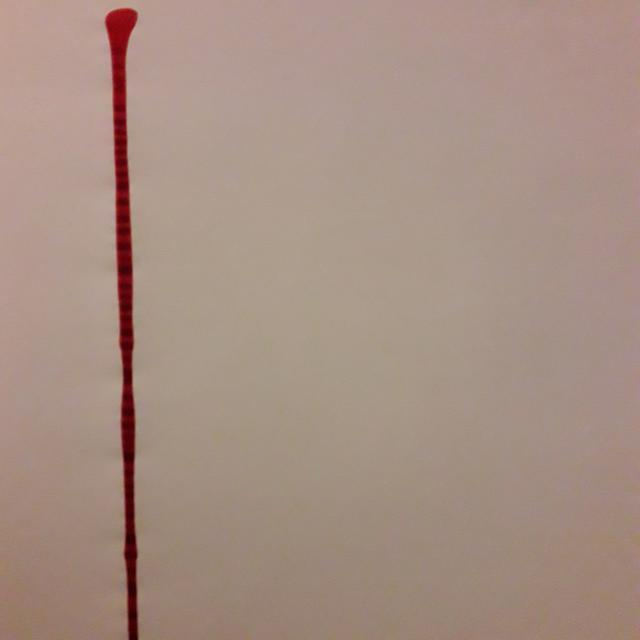wound: (77, 7, 163, 640)
